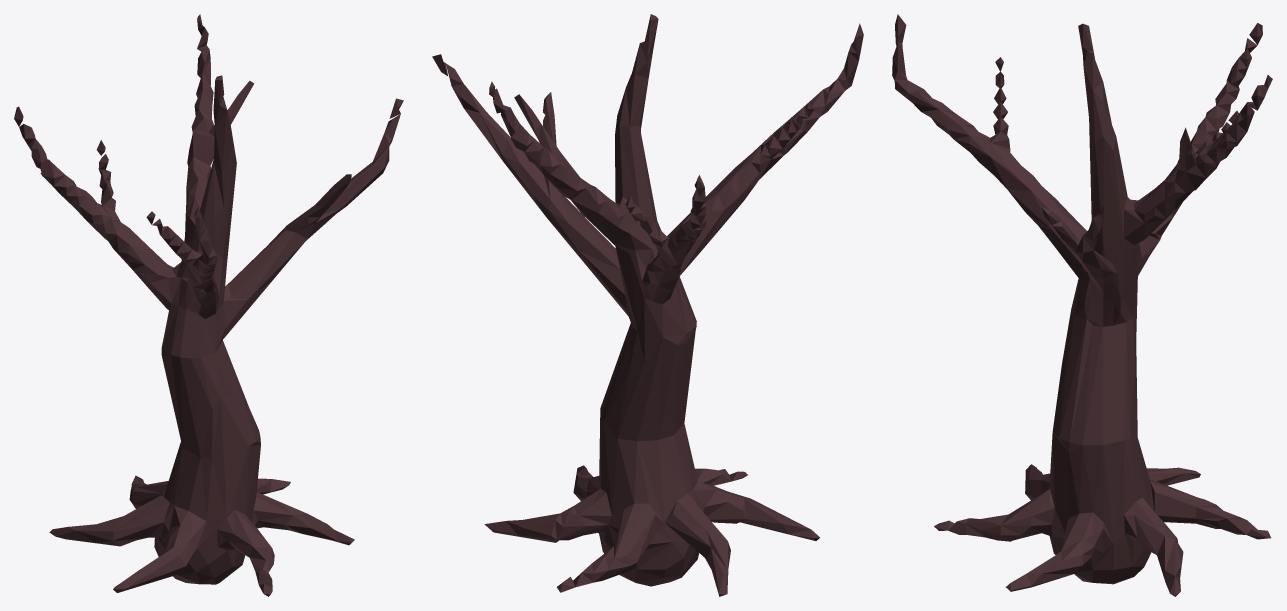
File: dead_tree_big.glb
3 renders of one model, left to right at view 1: azimuth 30°, elevation 25°; view 2: azimuth 150°, elevation 25°; view 3: azimuth 270°, elevation 25°, orthographic. The views are drawn at different scales.
Visible parts, largest first — view 1: dead_tree_big; view 2: dead_tree_big; view 3: dead_tree_big.
Boxes of the visible parts, x1,y1,x2,y2 form: dead_tree_big: (14,14,403,596); dead_tree_big: (432,14,863,596); dead_tree_big: (892,14,1272,596).
Bounding box in the file's own units: 4.23 × 6.38 × 3.91.
